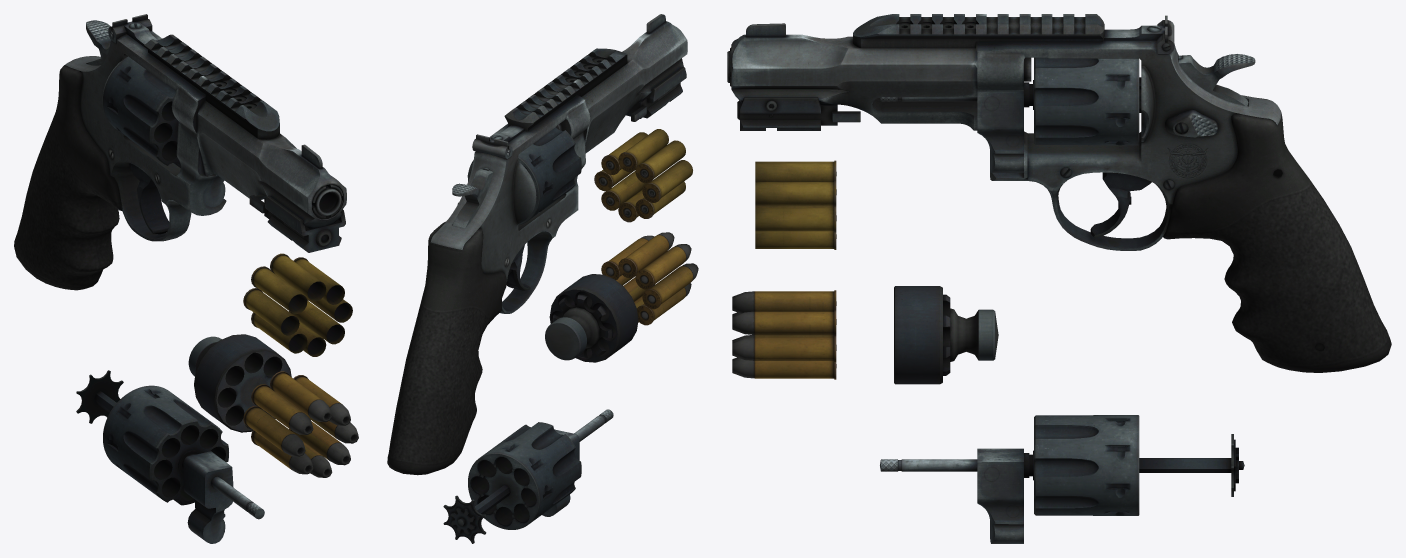
Rendered from revolver.glb.
3 views of the same model, side by side, from view 1: azimuth 30°, elevation 25°; view 2: azimuth 150°, elevation 25°; view 3: azimuth 270°, elevation 25° (orthographic). The views are drawn at different scales.
Parts seen in each view (by area): view 1: revolver; view 2: revolver; view 3: revolver.
Boxes of the visible parts, x1,y1,x2,y2 form: revolver: (14,14,358,543); revolver: (387,14,698,543); revolver: (727,14,1391,543).
Bounding box in the file's own units: 1.85 × 10.51 × 12.18.
Materials: 1 (1 with a texture image).
